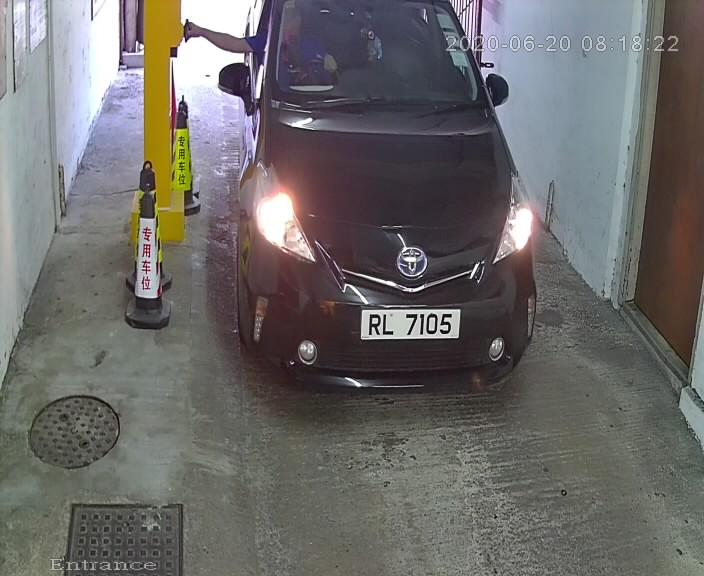privatecar: (209, 3, 543, 394)
